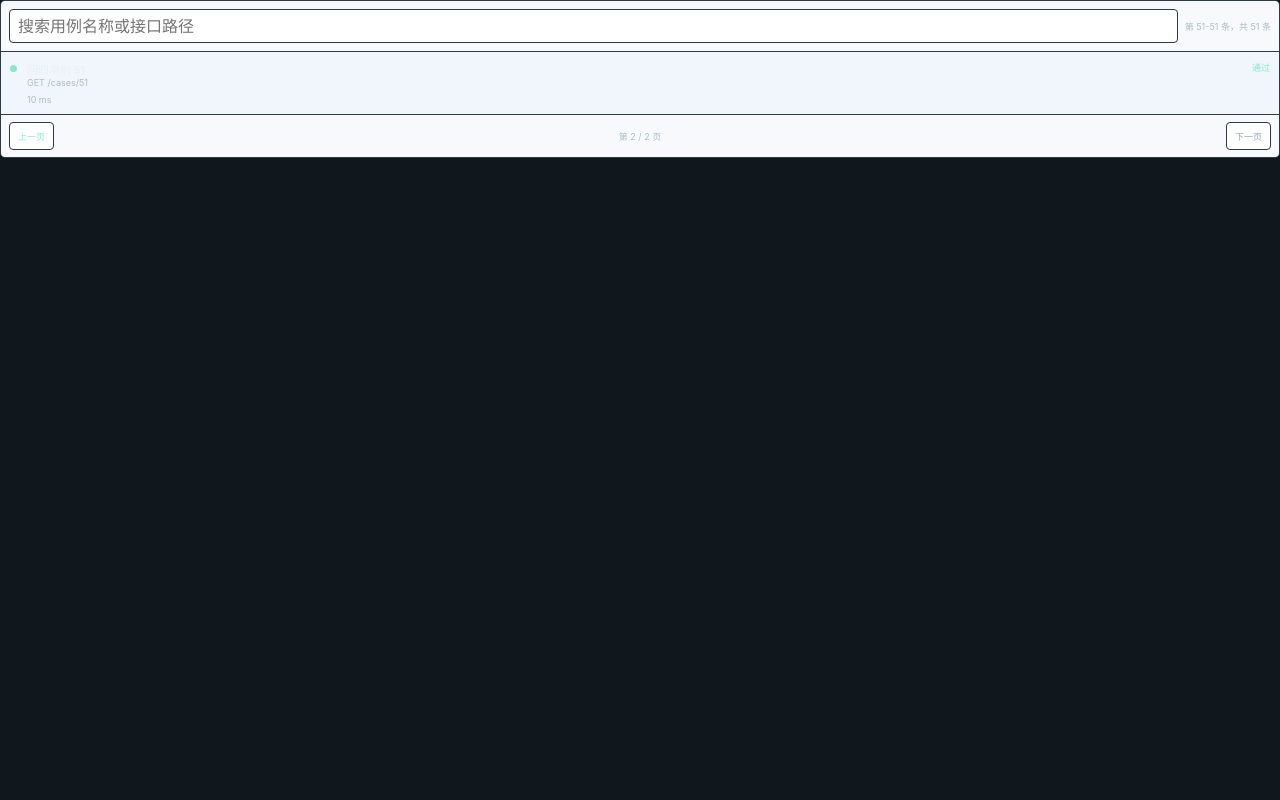
it: CaseResultList › opens the page containing the active case so list and evidence stay aligned
The width and height of the screenshot is (1280, 800).
Expected: the number of buttons with test id "case-result-row" is 1, [1,52,1279,114]
Type "回归用例 1" into the field with test id "case-result-search" at (593, 26), box [9,9,1178,43]
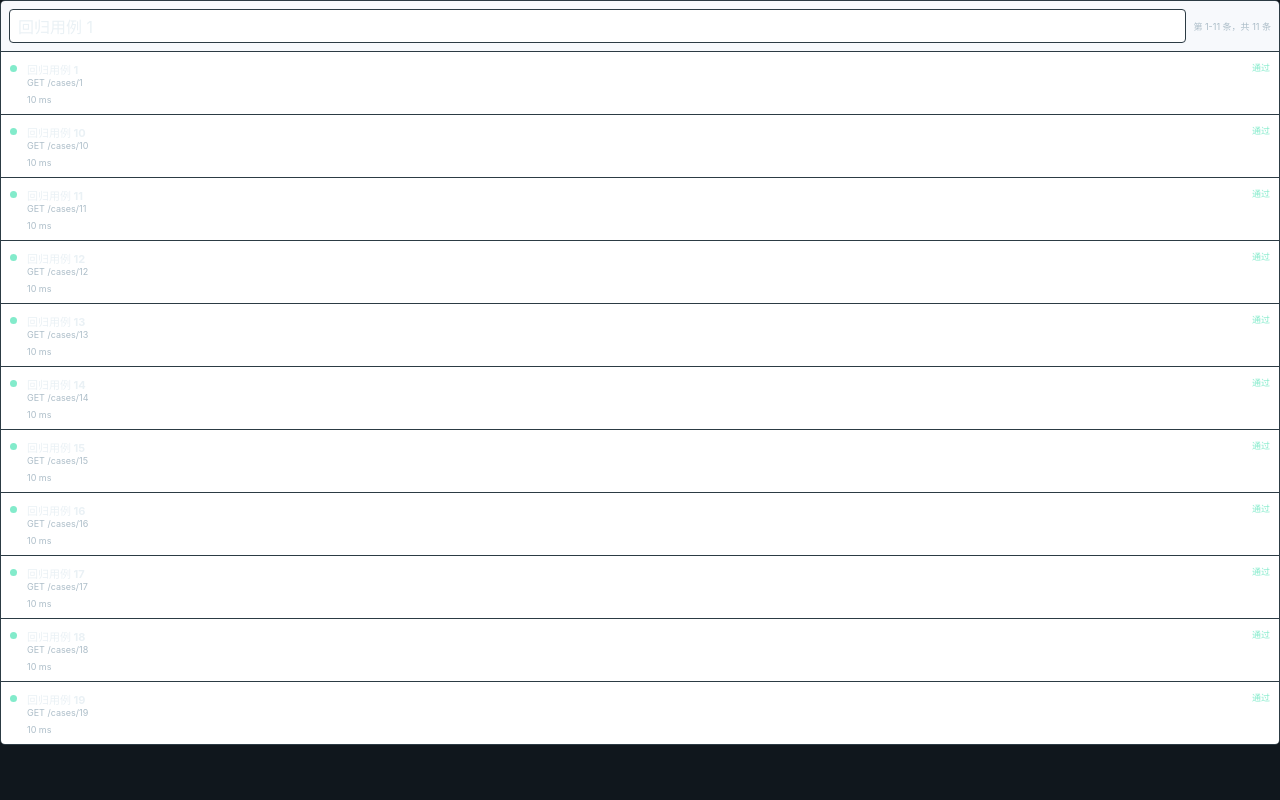
Clear the field with test id "case-result-search" at (598, 26), box [9,9,1186,43]
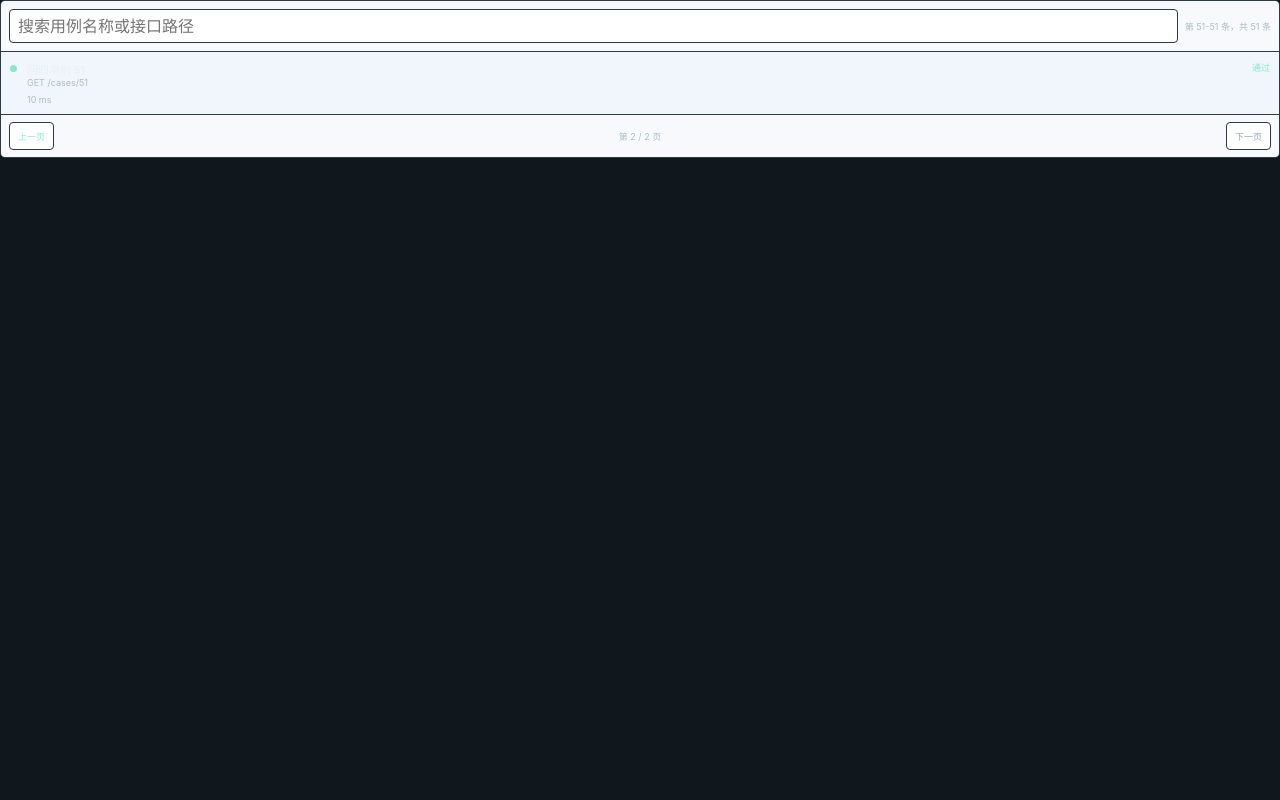
Expected: the text "第 51-51 条，共 51 条" is shown, [1185,20,1271,32]
